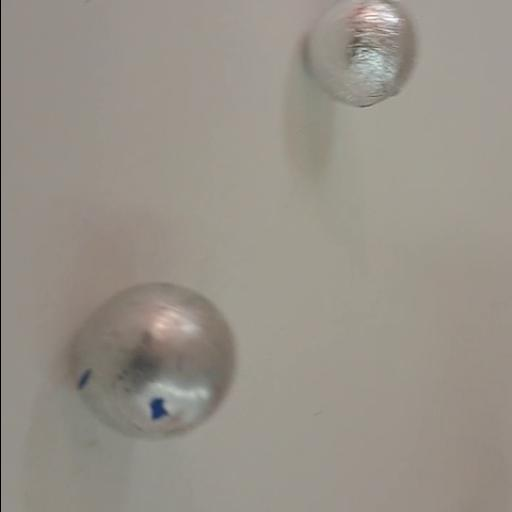alive: (67, 276, 243, 445), (304, 0, 420, 110)
